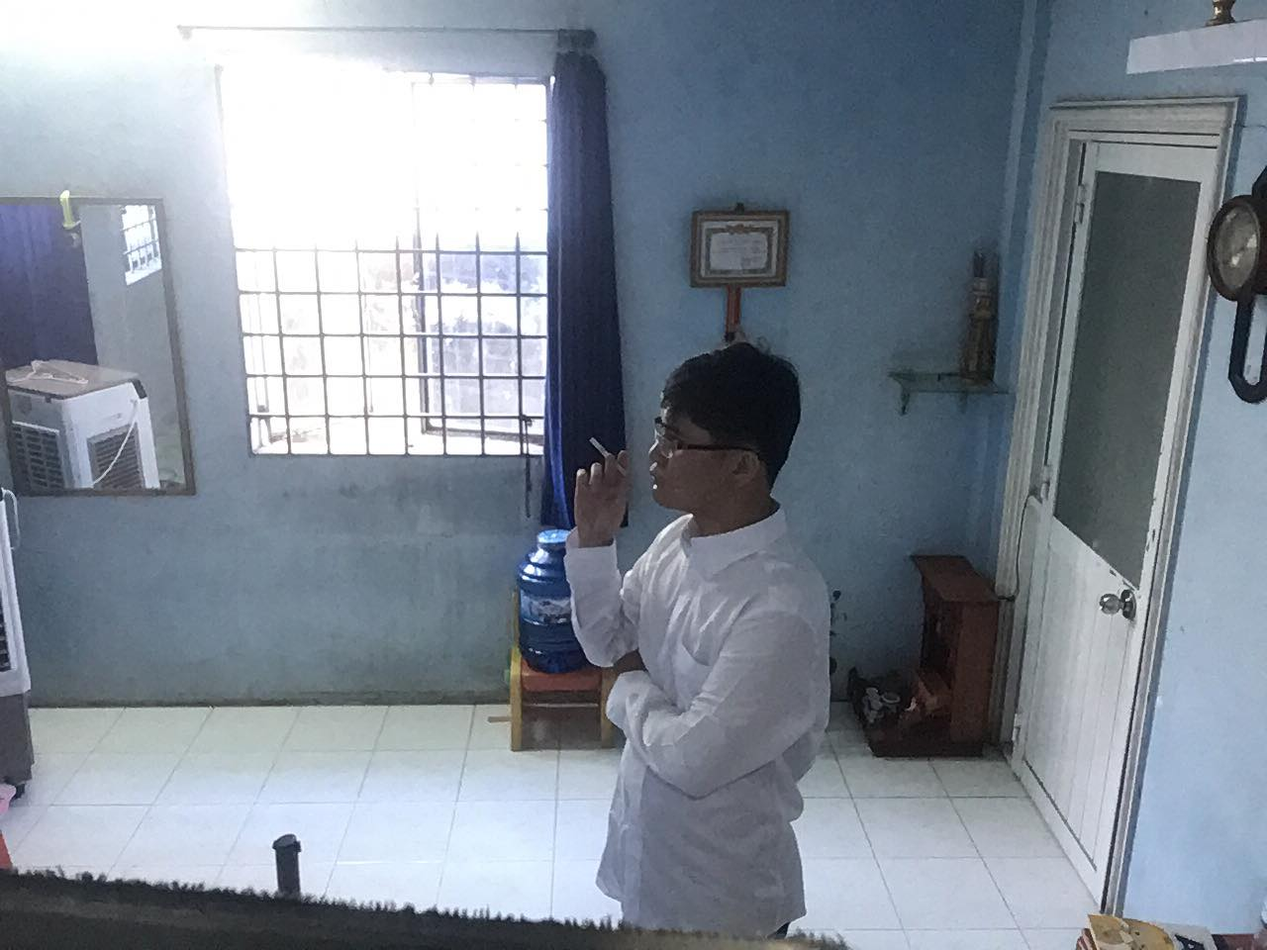cigarette: (592, 432, 629, 482)
person: (550, 321, 863, 950)
